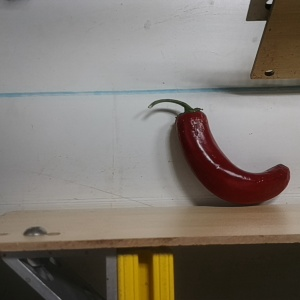Cut Point: (173, 99, 209, 131)
